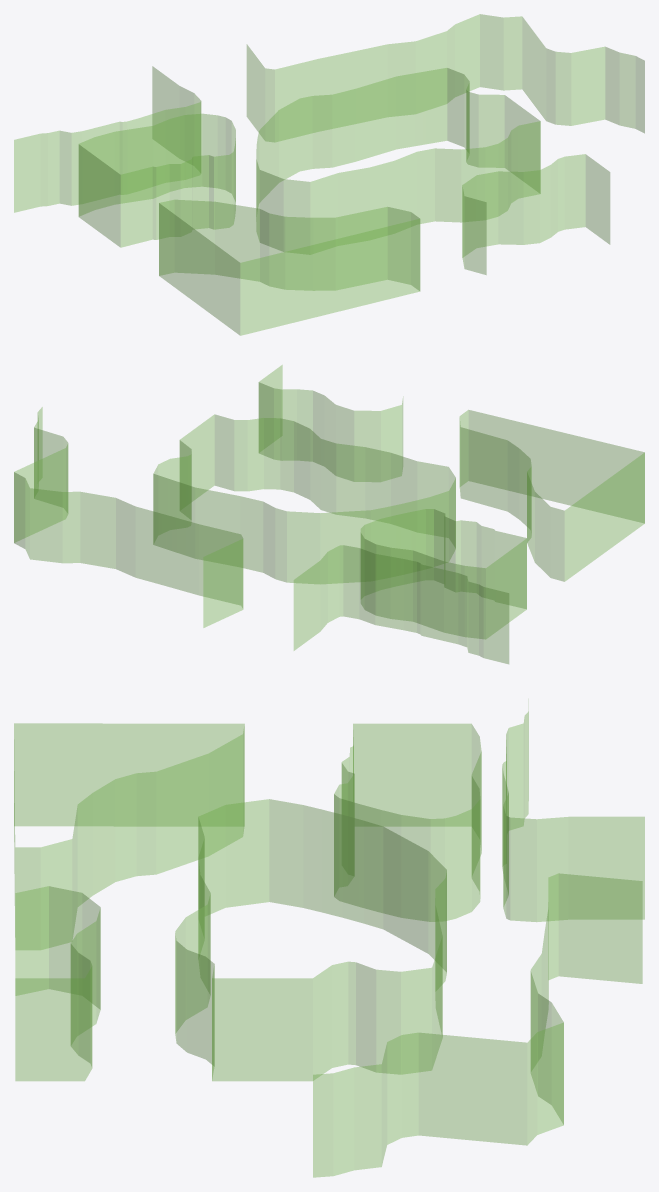
Rendered from GardenColliders_Mesh.fbx.
3 views of the same model, one above another, from view 1: azimuth 30°, elevation 25°; view 2: azimuth 150°, elevation 25°; view 3: azimuth 270°, elevation 25° (orthographic). The views are drawn at different scales.
Visible parts, largest first — view 1: Collider Center, Collider SW, Collider NE, Collider E, Collider SE, Collider NW; view 2: Collider Center, Collider NE, Collider SW, Collider E, Collider SE, Collider NW; view 3: Collider Center, Collider NE, Collider SW, Collider E, Collider SE, Collider NW.
Part boxes in pixels (x1,y1,x2,y2): Collider Center: [256, 68, 540, 251]; Collider SW: [247, 14, 644, 141]; Collider NE: [159, 200, 420, 335]; Collider E: [78, 114, 235, 247]; Collider SE: [14, 66, 201, 212]; Collider NW: [462, 154, 609, 274]; Collider Center: [153, 414, 455, 583]; Collider NE: [459, 410, 644, 581]; Collider SW: [14, 407, 243, 627]; Collider E: [360, 509, 526, 638]; Collider SE: [294, 545, 508, 663]; Collider NW: [258, 365, 402, 481]; Collider Center: [175, 799, 446, 1080]; Collider NE: [14, 723, 244, 949]; Collider SW: [313, 873, 642, 1177]; Collider E: [334, 724, 481, 921]; Collider SE: [502, 711, 644, 921]; Collider NW: [15, 886, 100, 1080].
Size of the model in its own units: 3177 by 400 by 2221.
